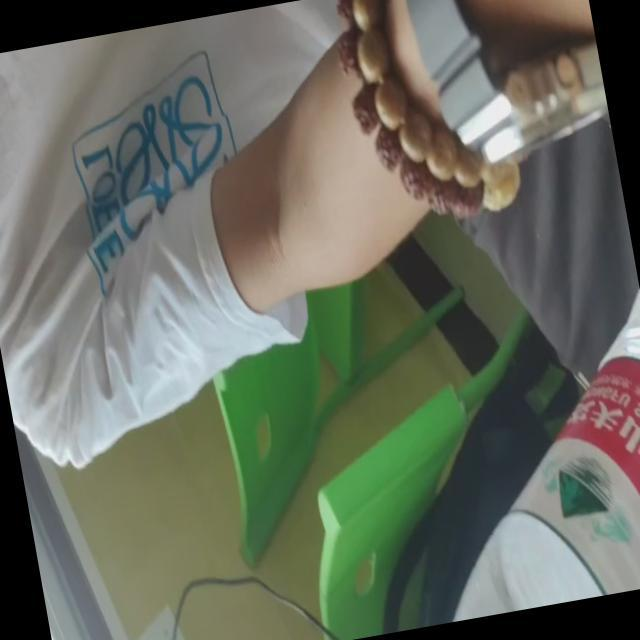good: (399, 279, 640, 620)
